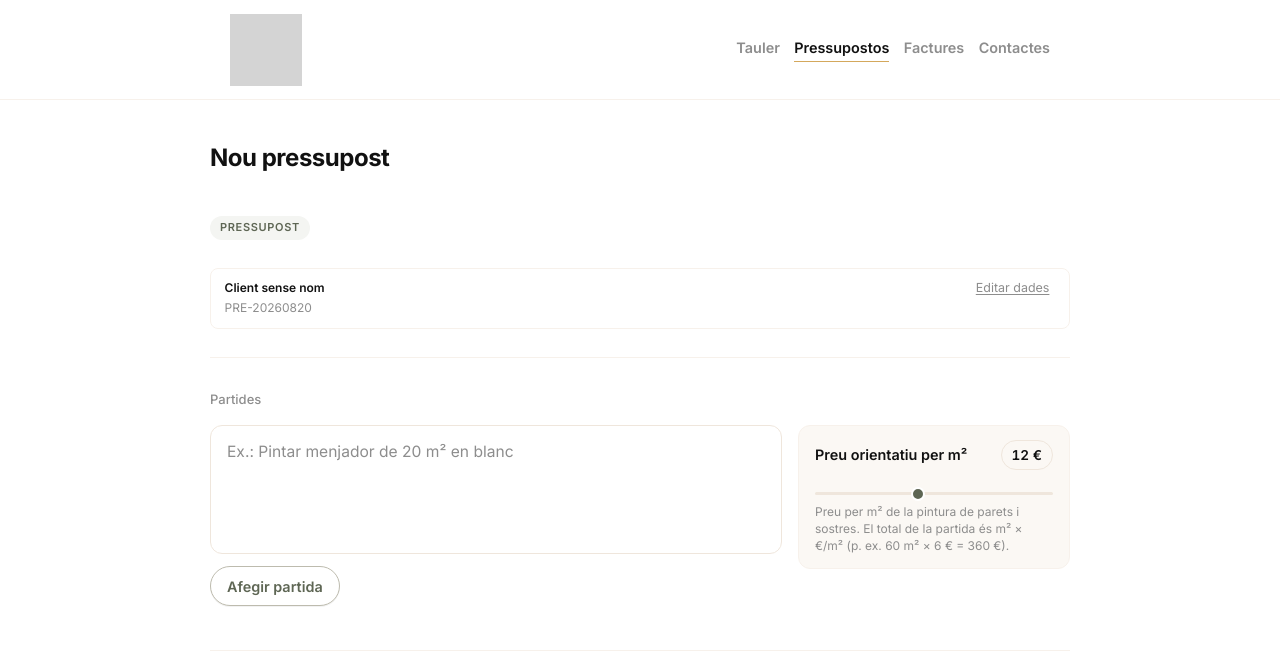
Test: New budget › shows validation error when description is empty
Step 1. Click the submit button → click(275, 586), box [210, 566, 340, 606]
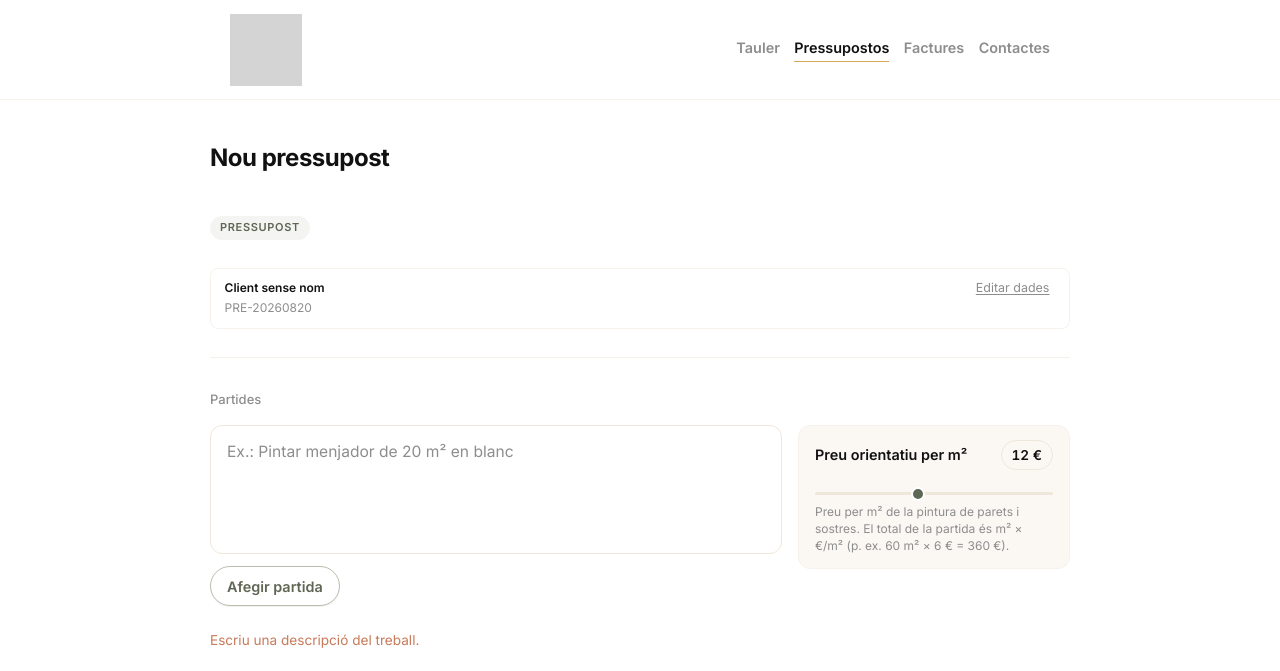
Result: the message "Escriu una descripció del treball." is shown at [210, 632, 419, 648]
